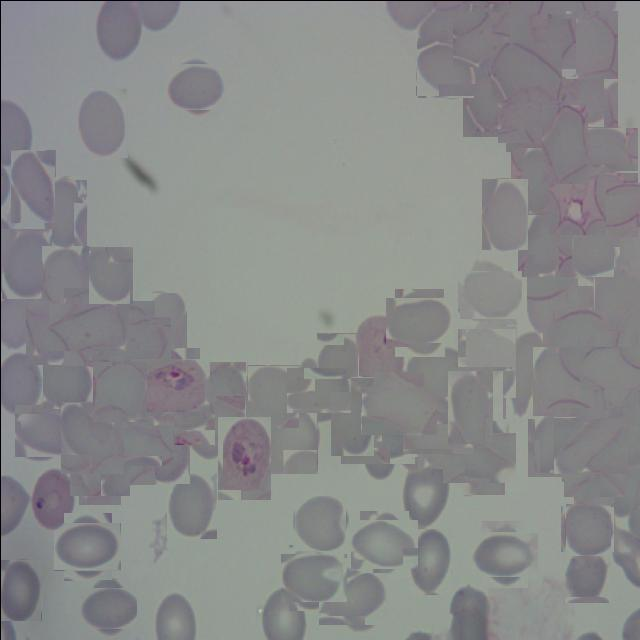leukocyte: (60, 401, 124, 473), (95, 308, 162, 374), (532, 346, 596, 415), (490, 41, 562, 102), (556, 411, 622, 477), (510, 12, 574, 77), (502, 324, 546, 418), (456, 7, 520, 71), (55, 294, 118, 358), (366, 378, 428, 441), (322, 568, 384, 630), (448, 426, 510, 488), (556, 376, 609, 448), (526, 276, 594, 332), (554, 65, 616, 126), (541, 103, 588, 183), (265, 402, 317, 473), (178, 390, 239, 450), (329, 376, 374, 456), (565, 10, 617, 78), (400, 456, 449, 528), (1, 228, 51, 298), (76, 87, 126, 157), (104, 416, 164, 474), (500, 88, 560, 146), (542, 309, 606, 363), (510, 146, 560, 214), (481, 177, 528, 249), (58, 517, 116, 575), (354, 515, 412, 573), (390, 293, 448, 351), (284, 548, 342, 606), (348, 414, 406, 472), (416, 38, 474, 96), (462, 66, 510, 136), (166, 472, 216, 538), (10, 149, 55, 222), (447, 370, 492, 443), (247, 364, 299, 427), (409, 404, 466, 461), (574, 120, 630, 178), (41, 245, 88, 314), (92, 361, 146, 421), (198, 360, 247, 426), (42, 175, 86, 248), (587, 337, 640, 397), (517, 210, 565, 276), (406, 524, 451, 594), (476, 526, 532, 582), (408, 342, 464, 398), (561, 223, 617, 279), (15, 402, 70, 458), (461, 266, 516, 322), (42, 347, 92, 408), (291, 362, 346, 417), (25, 300, 72, 364), (143, 418, 189, 483), (167, 59, 222, 113), (140, 292, 186, 356), (292, 496, 346, 550), (588, 176, 640, 231), (85, 246, 133, 304), (527, 410, 569, 476), (568, 449, 620, 502), (564, 544, 609, 602), (74, 448, 124, 499), (460, 324, 511, 374), (0, 558, 41, 620), (562, 504, 611, 554), (84, 582, 132, 632), (447, 584, 490, 637), (316, 332, 358, 386)
red blood cell: (548, 166, 605, 234)
schizont: (136, 352, 204, 420), (217, 416, 271, 500)
